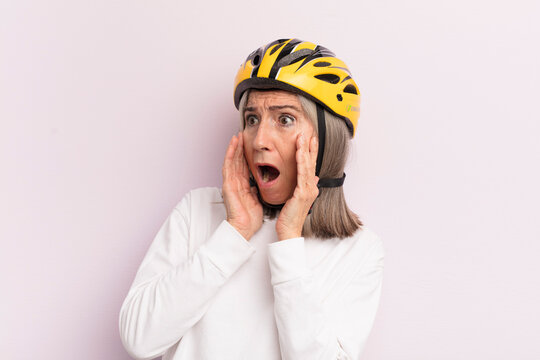helmet: (234, 39, 361, 205)
